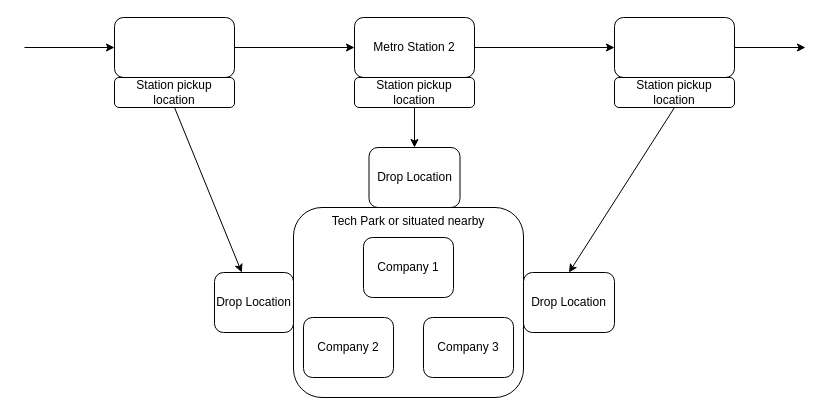
Image size: 831x415. Some labels were removed from this diagram. The shapes that lost their labels are listed below. From the top down, each one's centre as x and y in pixels, then its label:
[174,47]: Metro Station 1
[674,47]: Metro Station 3
